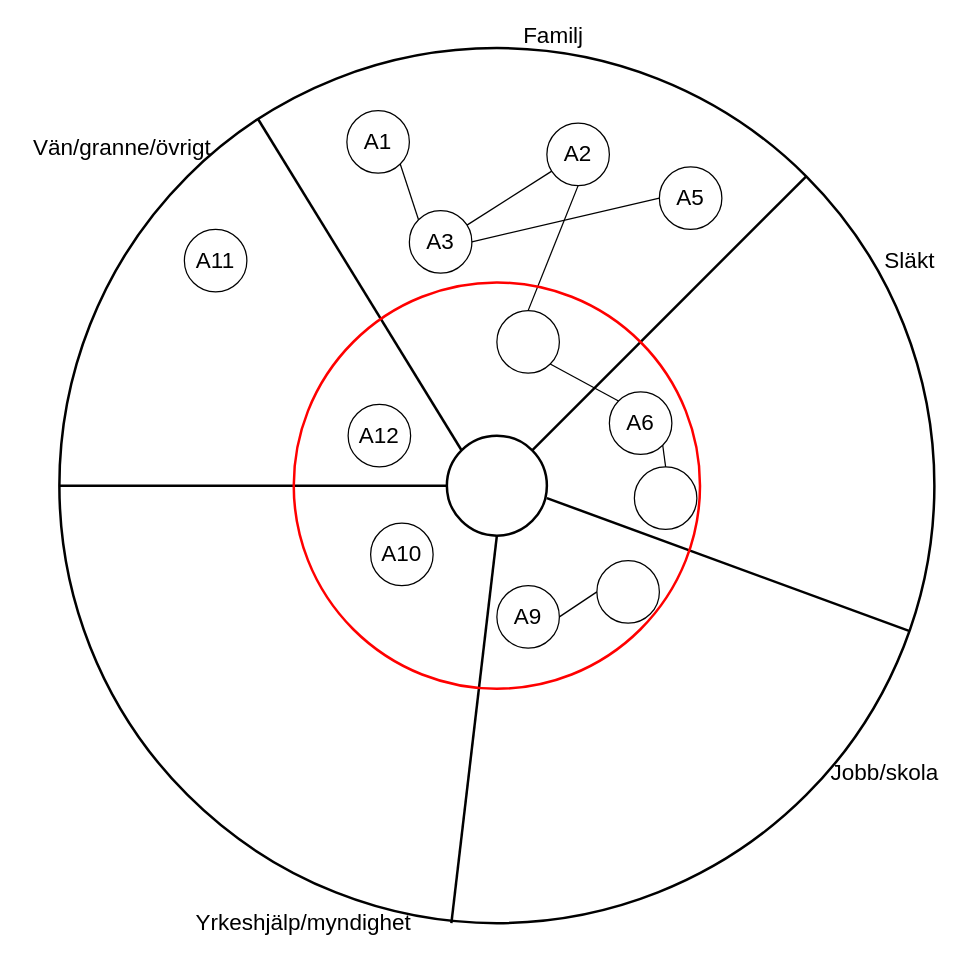
Image size: 968x958. Some labels were removed from this diagram. Here are the shapes that lost their labels. From the top down, the box of each, then its label:
(496, 309, 559, 373): A4
(445, 434, 548, 536): Sofie (ego)
(633, 466, 697, 529): A7
(596, 559, 659, 623): A8
